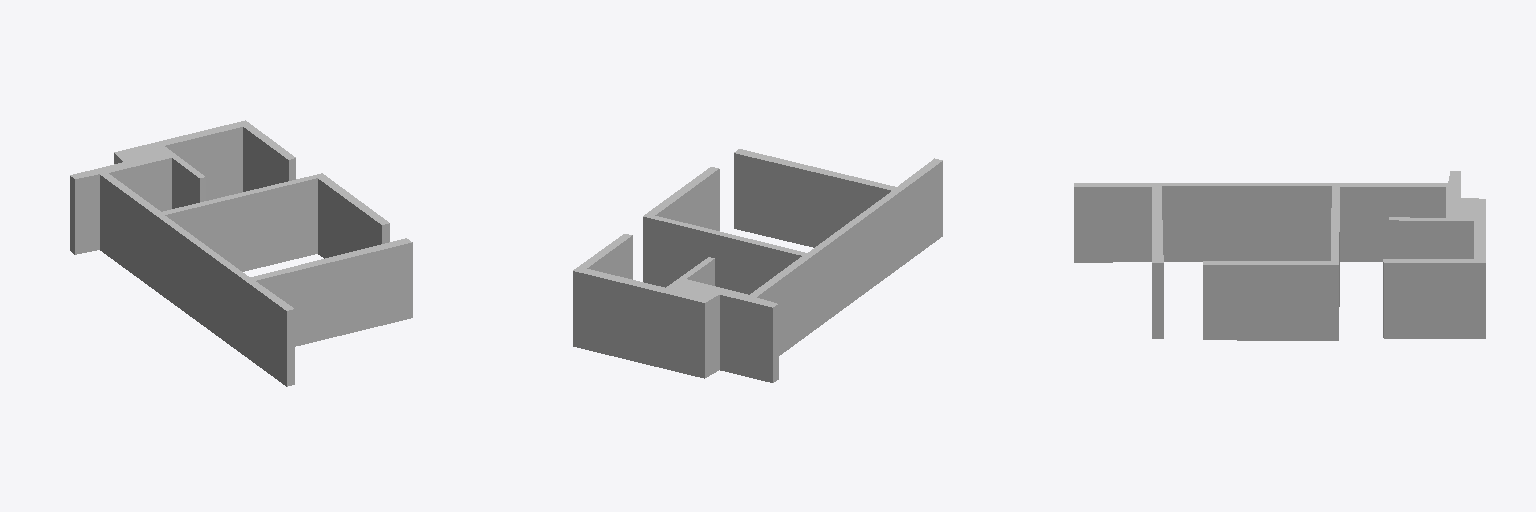
The model's file is bright_128-129.obj.
3 views of the same model, side by side, from view 1: azimuth 30°, elevation 25°; view 2: azimuth 150°, elevation 25°; view 3: azimuth 270°, elevation 25° (orthographic).
Parts seen in each view (by area): view 1: polySurface6; view 2: polySurface6; view 3: polySurface6.
Boxes of the visible parts, box(x1,y1,x2,y2) form: polySurface6: box(70, 120, 412, 386); polySurface6: box(573, 149, 942, 382); polySurface6: box(1074, 171, 1485, 340).
Size of the model in its own units: 49.13 by 18.54 by 91.28.